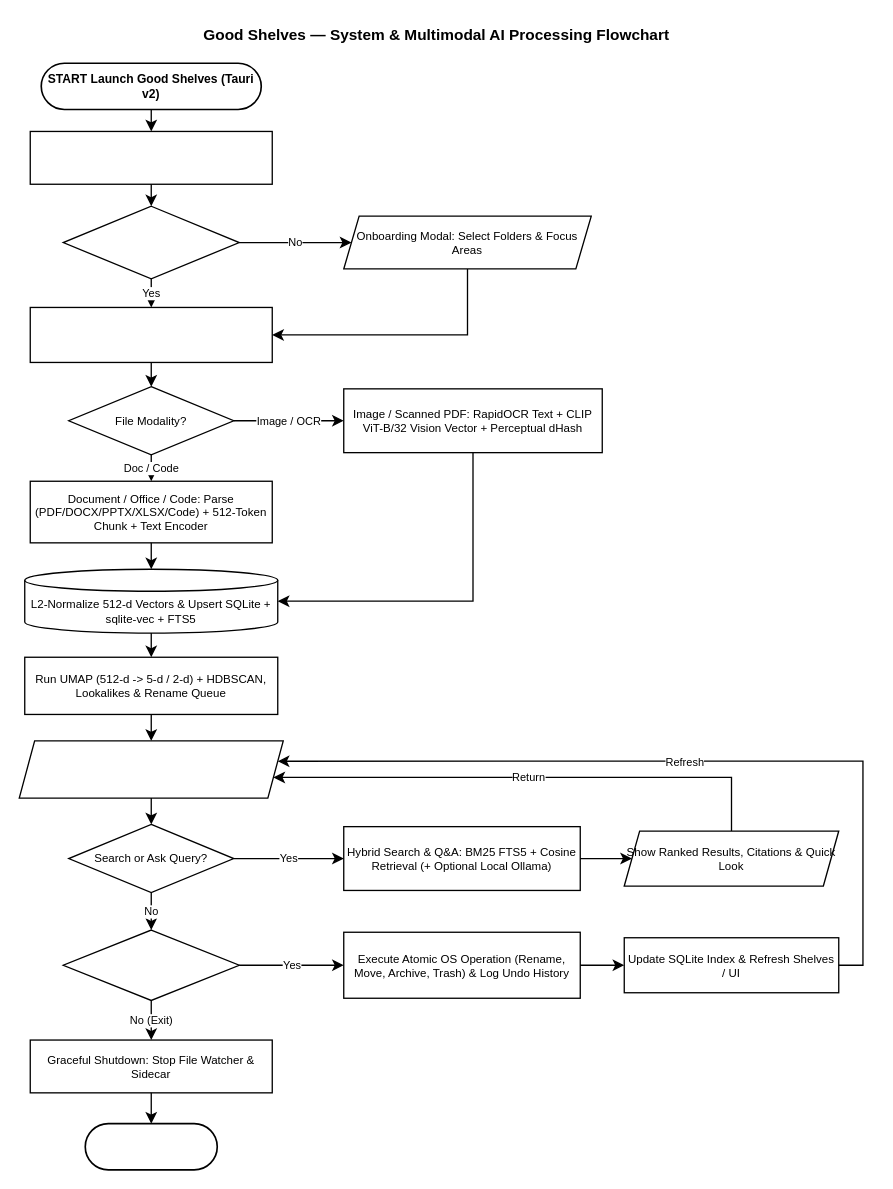
This 893x1189 diagram has some shape labels left out. Here are the shapes that lost their labels. From the top down, the centre of each, then its label:
the point at 150,157: Start Rust Notify Watcher & Python FastAPI / ONNX Sidecar
the point at 150,242: Watched Folders Configured?
the point at 150,334: Scan Active Watched Folders (Check SHA-256 & mtime)
the point at 150,769: Display Workspace Views (Shelves, Map, Folders, Find, Tidy, Lookalikes)
the point at 150,965: Organize, Rename or Clean File?
the point at 151,1146: END
